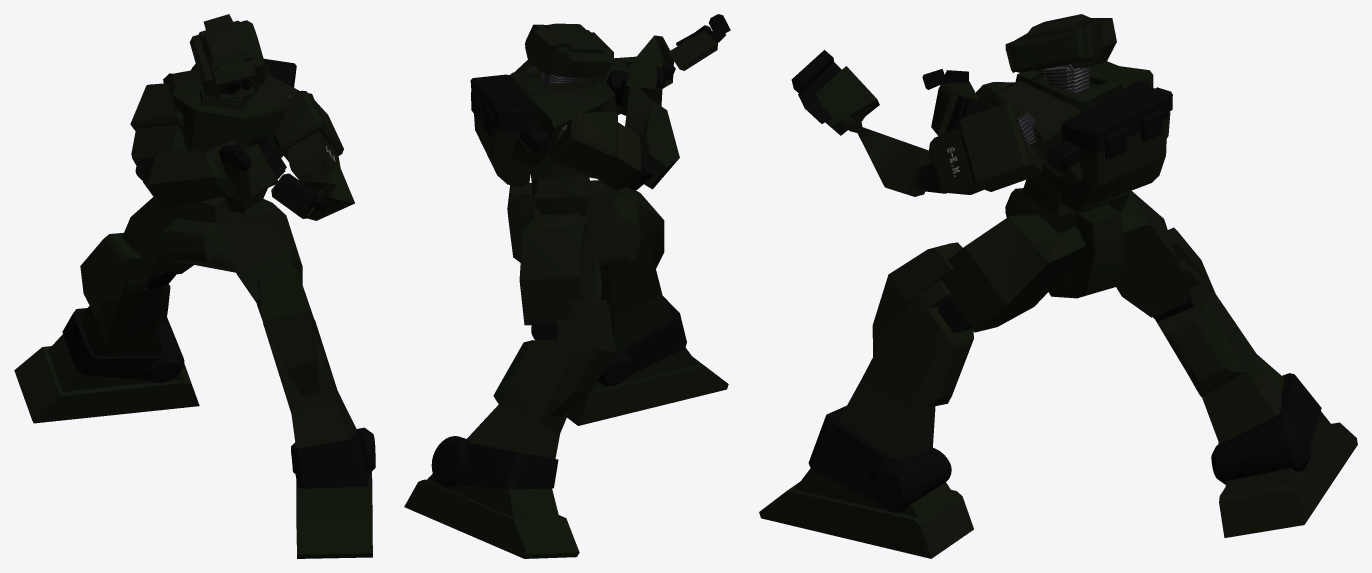
The model's file is sentinel_aim.obj.
3 views of the same model, side by side, from view 1: azimuth 30°, elevation 25°; view 2: azimuth 150°, elevation 25°; view 3: azimuth 270°, elevation 25° (orthographic). The views are drawn at different scales.
Visible parts, largest first — view 1: sentinel.001; view 2: sentinel.001; view 3: sentinel.001.
Boxes of the visible parts, bbox=[...] form: sentinel.001: bbox=[14, 14, 375, 558]; sentinel.001: bbox=[404, 14, 730, 558]; sentinel.001: bbox=[759, 14, 1357, 558].
Size of the model in its own units: 6.84 by 15.03 by 16.25.
Materials: 9 (1 with a texture image).
